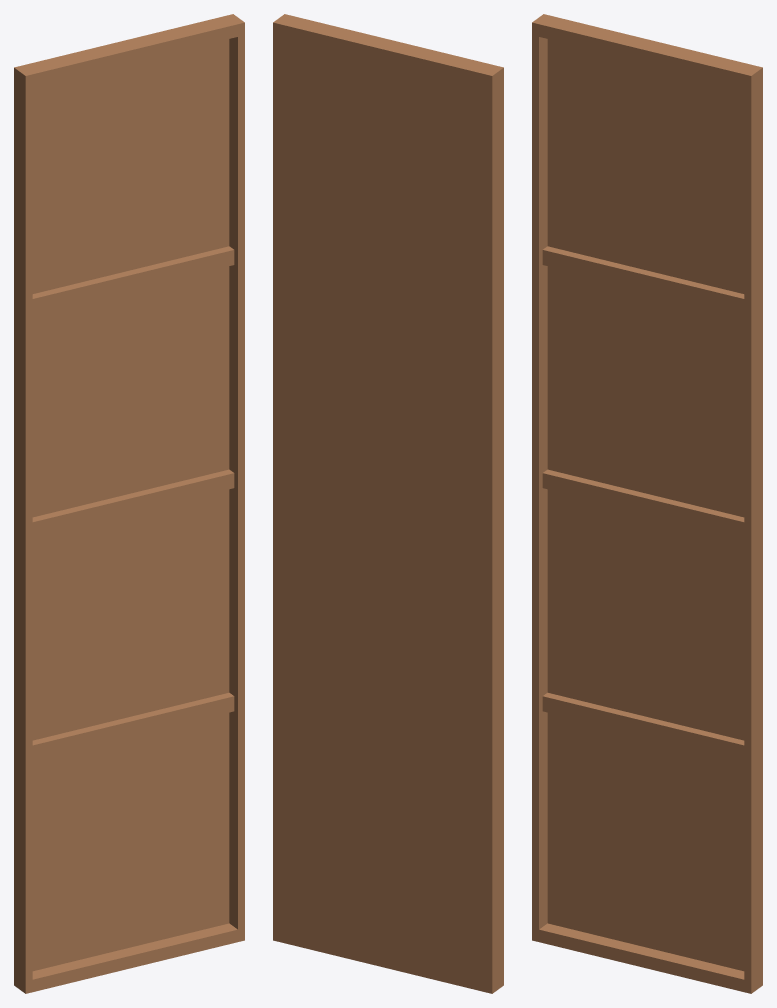
The model's file is Panel8by2.fbx.
3 views of the same model, side by side, from view 1: azimuth 30°, elevation 25°; view 2: azimuth 150°, elevation 25°; view 3: azimuth 330°, elevation 25° (orthographic).
Parts seen in each view (by area): view 1: Panel8by2; view 2: Panel8by2; view 3: Panel8by2.
Part boxes in pixels (x1,y1,x2,y2): Panel8by2: (14,14,244,993); Panel8by2: (273,14,503,993); Panel8by2: (532,14,762,993).
Bounding box in the file's own units: 56.06 × 5.16 × 224.
